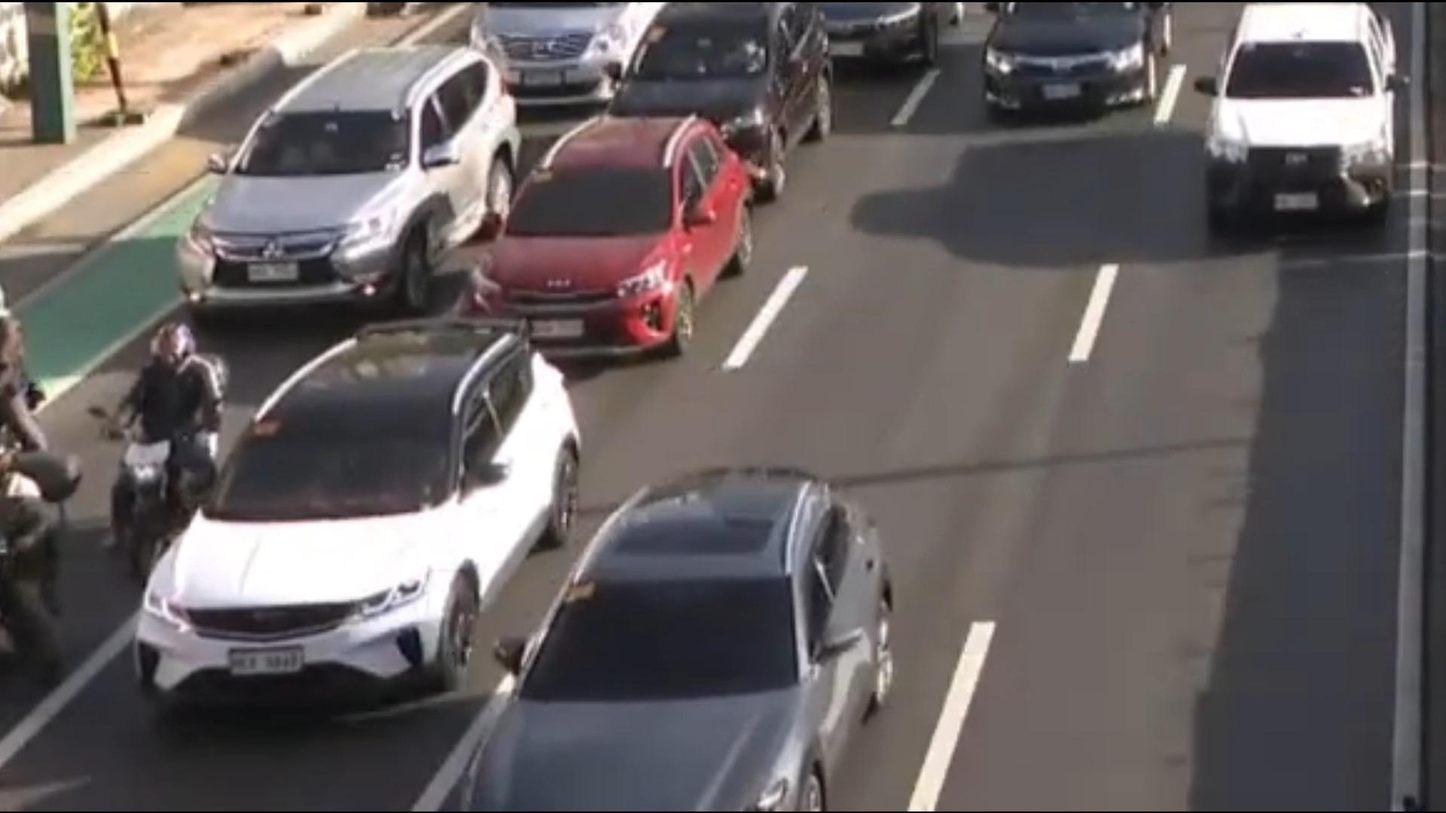Motorcycle: (97, 307, 238, 584), (0, 414, 96, 721), (0, 266, 93, 471)
Pickup: (1167, 0, 1439, 258)
SUV: (125, 300, 629, 726), (126, 29, 541, 322), (460, 117, 778, 395), (576, 0, 855, 193), (946, 3, 1185, 143)
Sedan: (453, 429, 942, 813)
Van: (464, 2, 667, 104)
